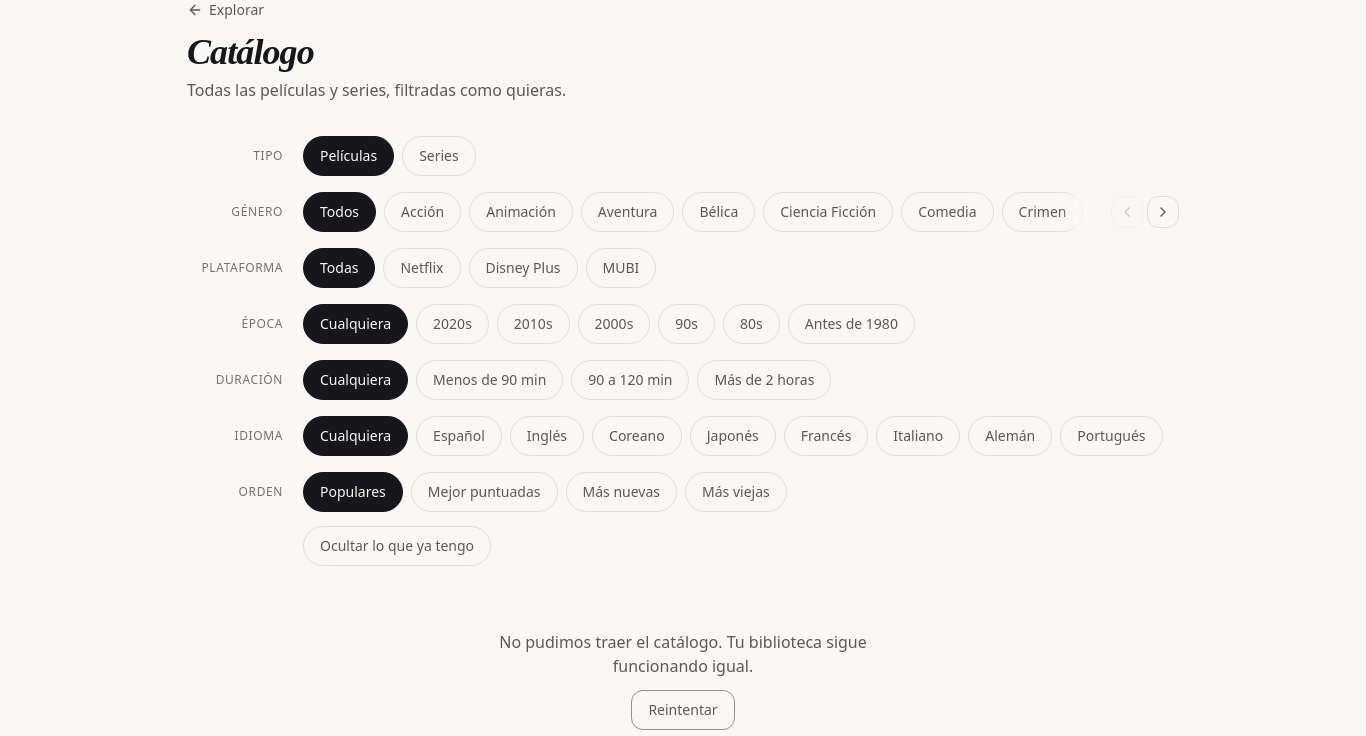
Test: CatalogView › si falla, lo dice y deja reintentar
Expected: the message shows "No pudimos traer el catálogo.", [499,631,867,730]
Click the button "Reintentar" at point(683, 710), box [631,690,735,730]
(page scrolled)
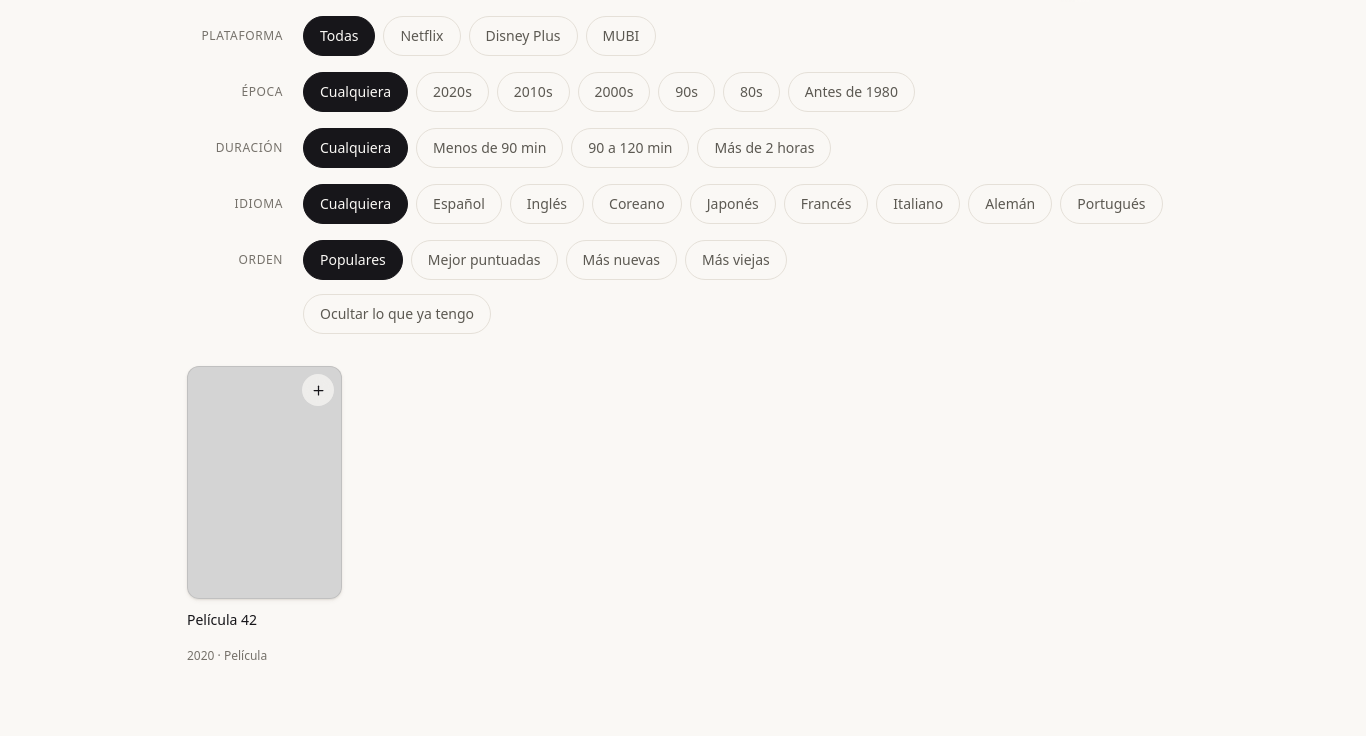
Now the text "Película 42" is shown, box [187,610,257,629]
